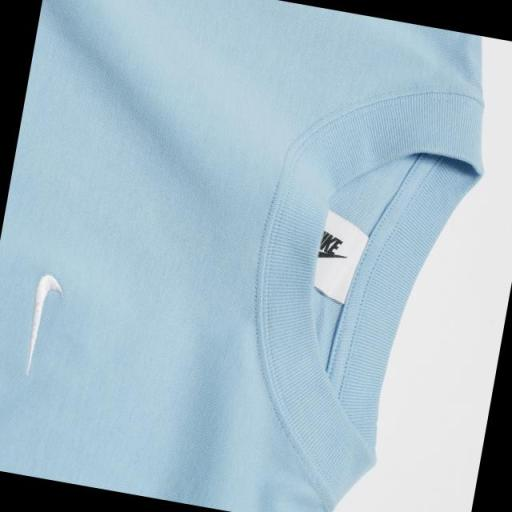Nike: (16, 268, 66, 384)
